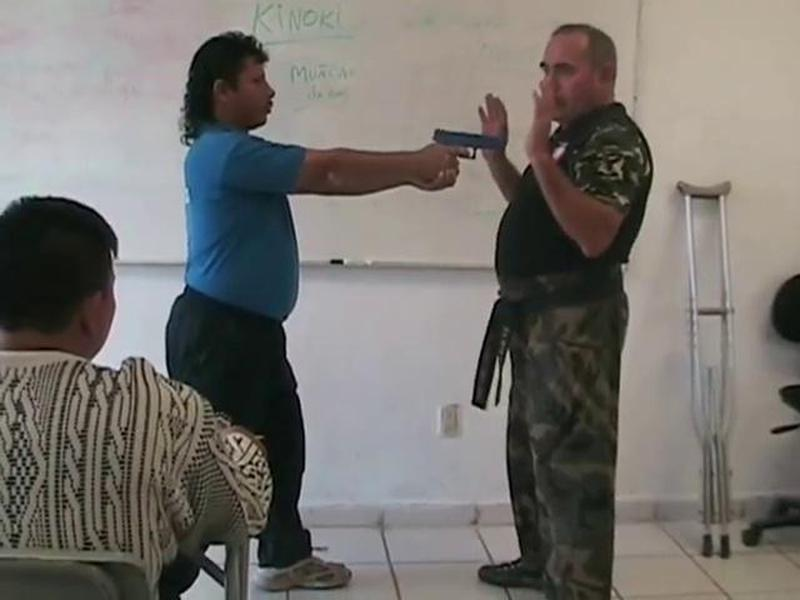Pistola: (418, 110, 516, 189)
